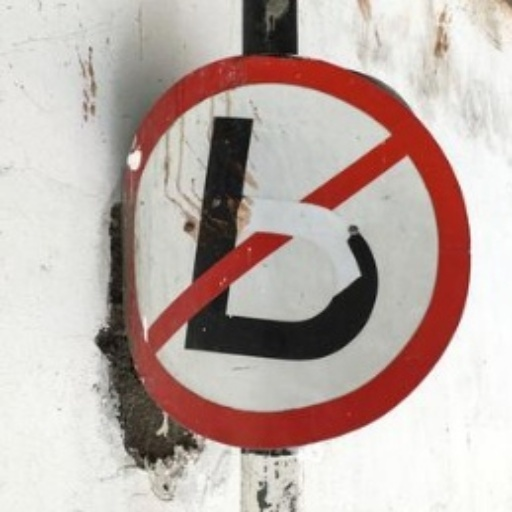No parking: (93, 36, 461, 444)
